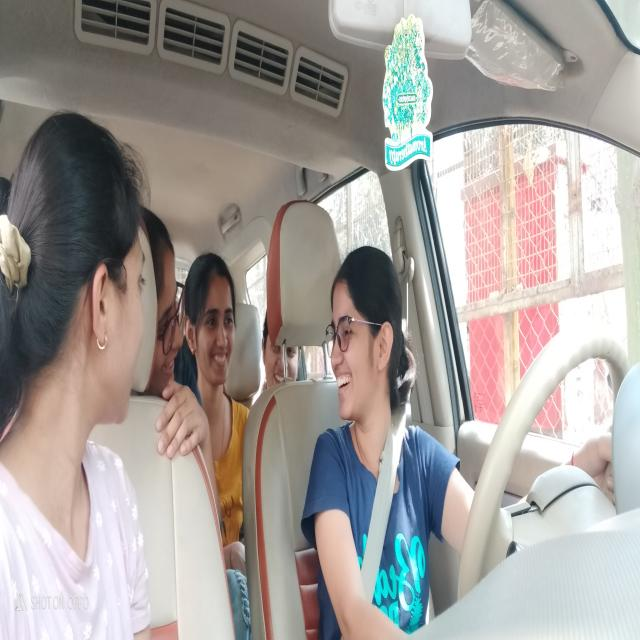LeftRight: (328, 249, 406, 429)
person: (2, 102, 148, 443), (186, 246, 238, 395), (147, 210, 185, 400), (264, 302, 304, 394)
talking: (333, 372, 353, 398)
